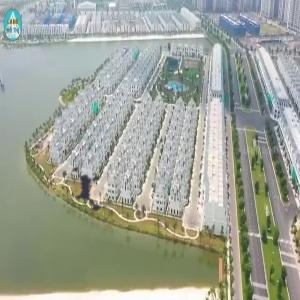drone: (43, 142, 133, 232)
